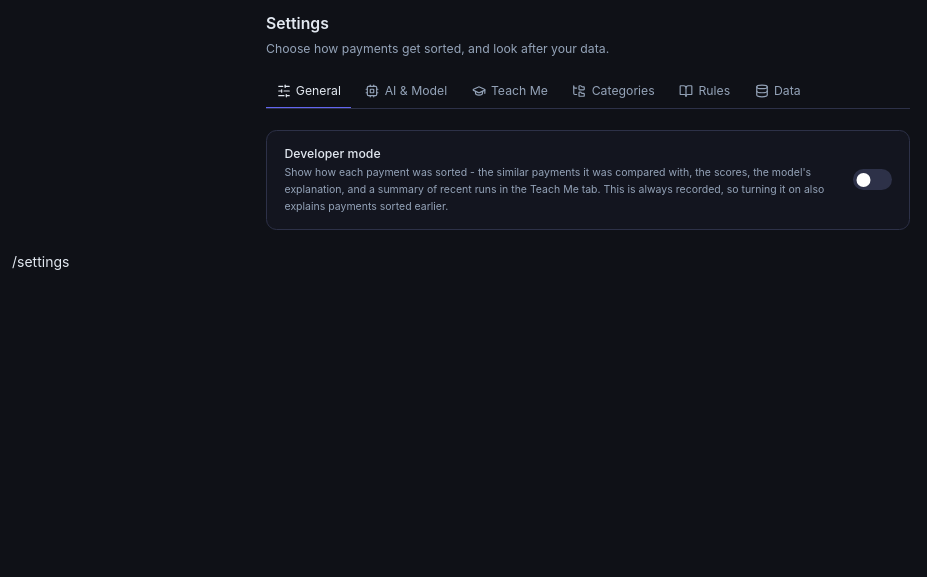
Settings › writes the tab into the URL when you pick one, and leaves General bare
Check: the text "Developer mode" is shown, box [284,146,381,160]
Click the button "Data" at [778, 92], box [744,75,811,108]
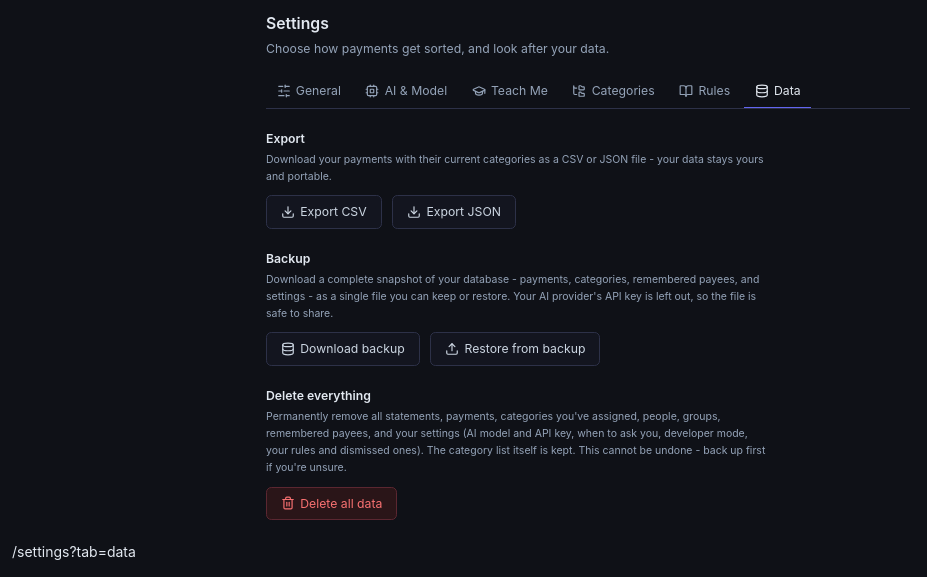
Check: the text with test id "where" reads "/settings?tab=data", box [12,543,136,560]
Click the button "General" at [309, 92], box [266,75,351,108]
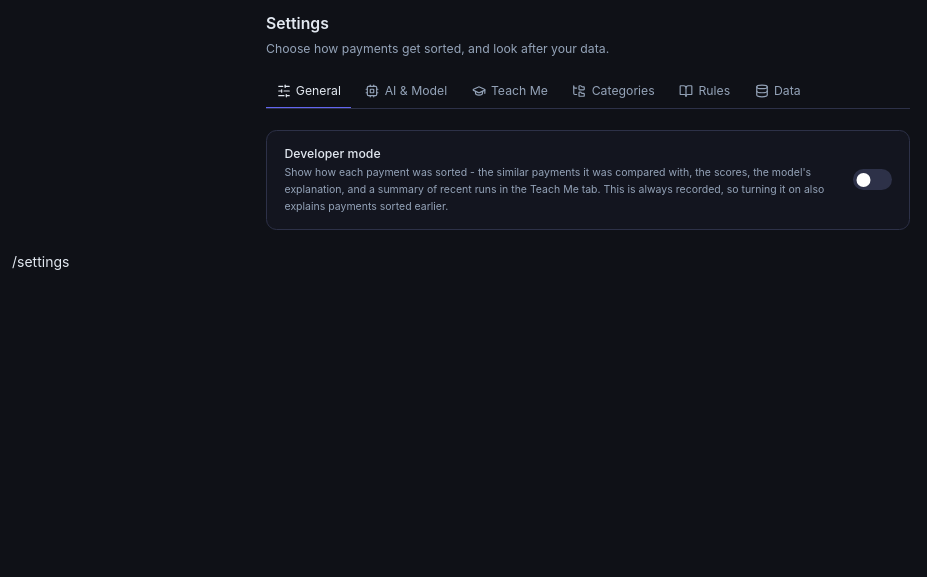
Check: the text with test id "where" reads "/settings", box [12,253,69,270]
